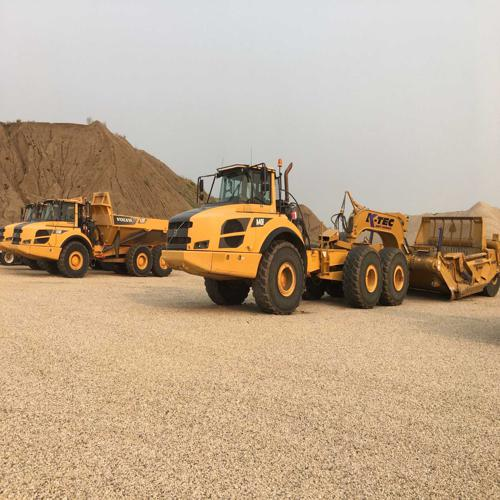con_eq: (160, 158, 499, 313)
